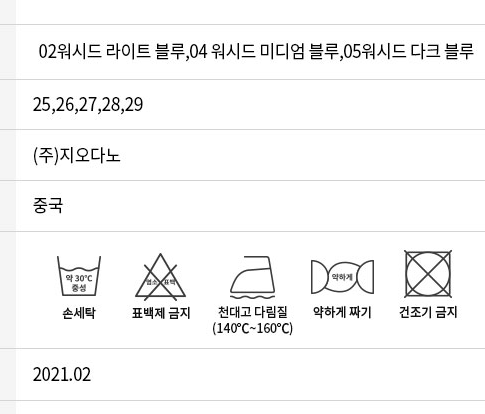KR_gentle_wring: (307, 254, 379, 299)
KR_hand_wash_30_neutral: (54, 250, 102, 298)
KR_no_chlorine_bleach: (133, 248, 189, 303)
KR_no_tumble_dry: (398, 246, 458, 301)
